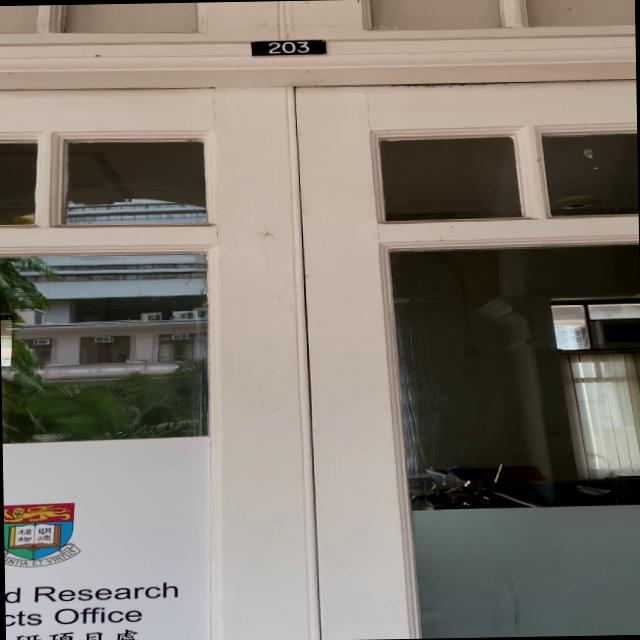room203: (240, 33, 332, 60)
